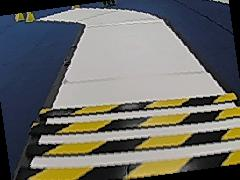bump: (23, 91, 239, 176)
